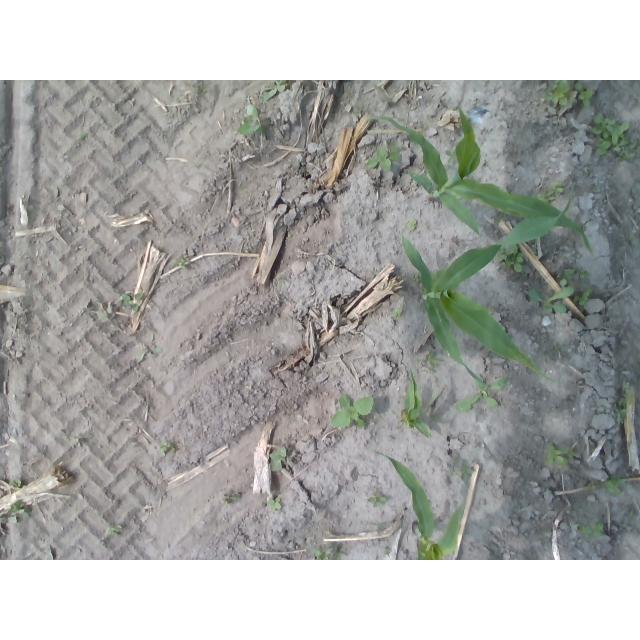Maize: (371, 100, 593, 257), (403, 188, 572, 391), (375, 448, 465, 561), (403, 369, 446, 439)
Weeds: (591, 113, 640, 163), (457, 376, 508, 412), (330, 394, 374, 428), (526, 286, 574, 314), (237, 103, 270, 137), (366, 141, 402, 172), (612, 381, 637, 423), (543, 441, 578, 471), (496, 243, 525, 273), (529, 181, 563, 204), (541, 80, 569, 105), (446, 458, 475, 481), (415, 351, 442, 373), (261, 80, 287, 102), (309, 544, 344, 560), (6, 501, 30, 523), (572, 83, 594, 107), (602, 474, 627, 495), (577, 521, 603, 540), (269, 447, 288, 472), (118, 293, 142, 312), (540, 344, 565, 361), (573, 287, 592, 306), (366, 492, 388, 508), (138, 347, 163, 361), (95, 300, 109, 322), (558, 267, 574, 286), (265, 496, 283, 512), (170, 256, 191, 269), (157, 440, 175, 454), (445, 147, 459, 163), (107, 524, 122, 536), (407, 218, 418, 231), (8, 479, 21, 489), (198, 83, 211, 93), (391, 308, 403, 318), (492, 213, 504, 223), (410, 273, 421, 283), (627, 232, 637, 243), (578, 270, 591, 278), (79, 131, 89, 141), (633, 362, 640, 375), (430, 414, 440, 423), (587, 482, 598, 490), (356, 105, 364, 113), (420, 123, 428, 129), (233, 496, 241, 501)
